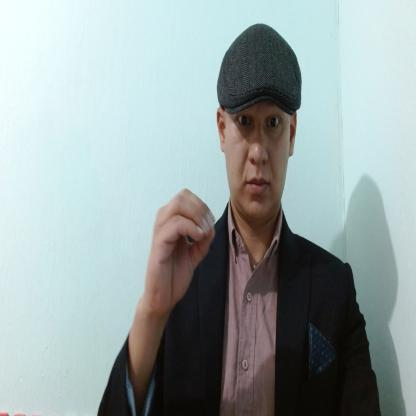O: (144, 186, 217, 313)
